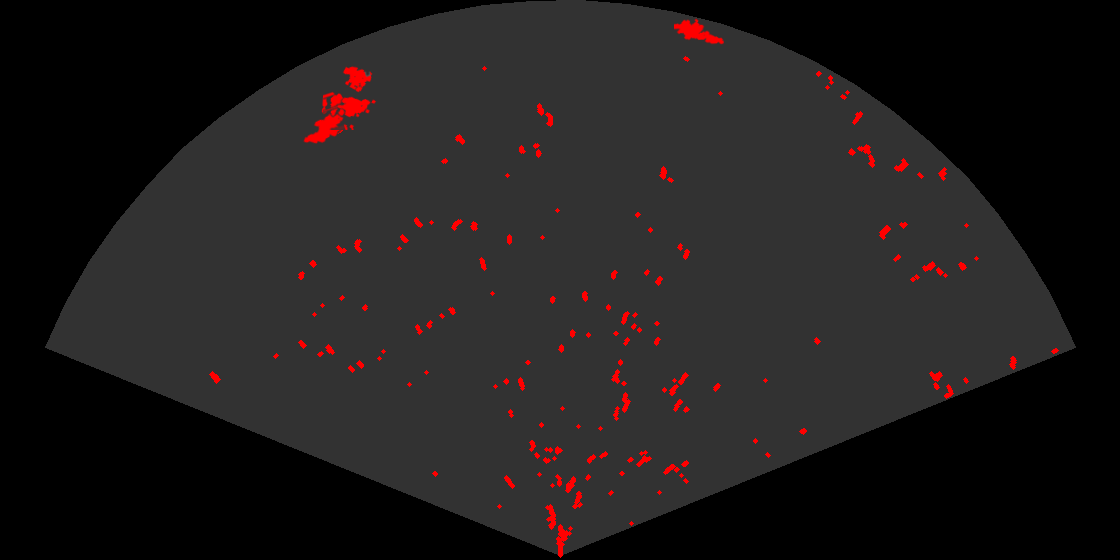AUV: (302, 111, 345, 145)
ball: (320, 92, 348, 118)
cage: (323, 65, 378, 130)
frogman: (674, 17, 724, 46)
